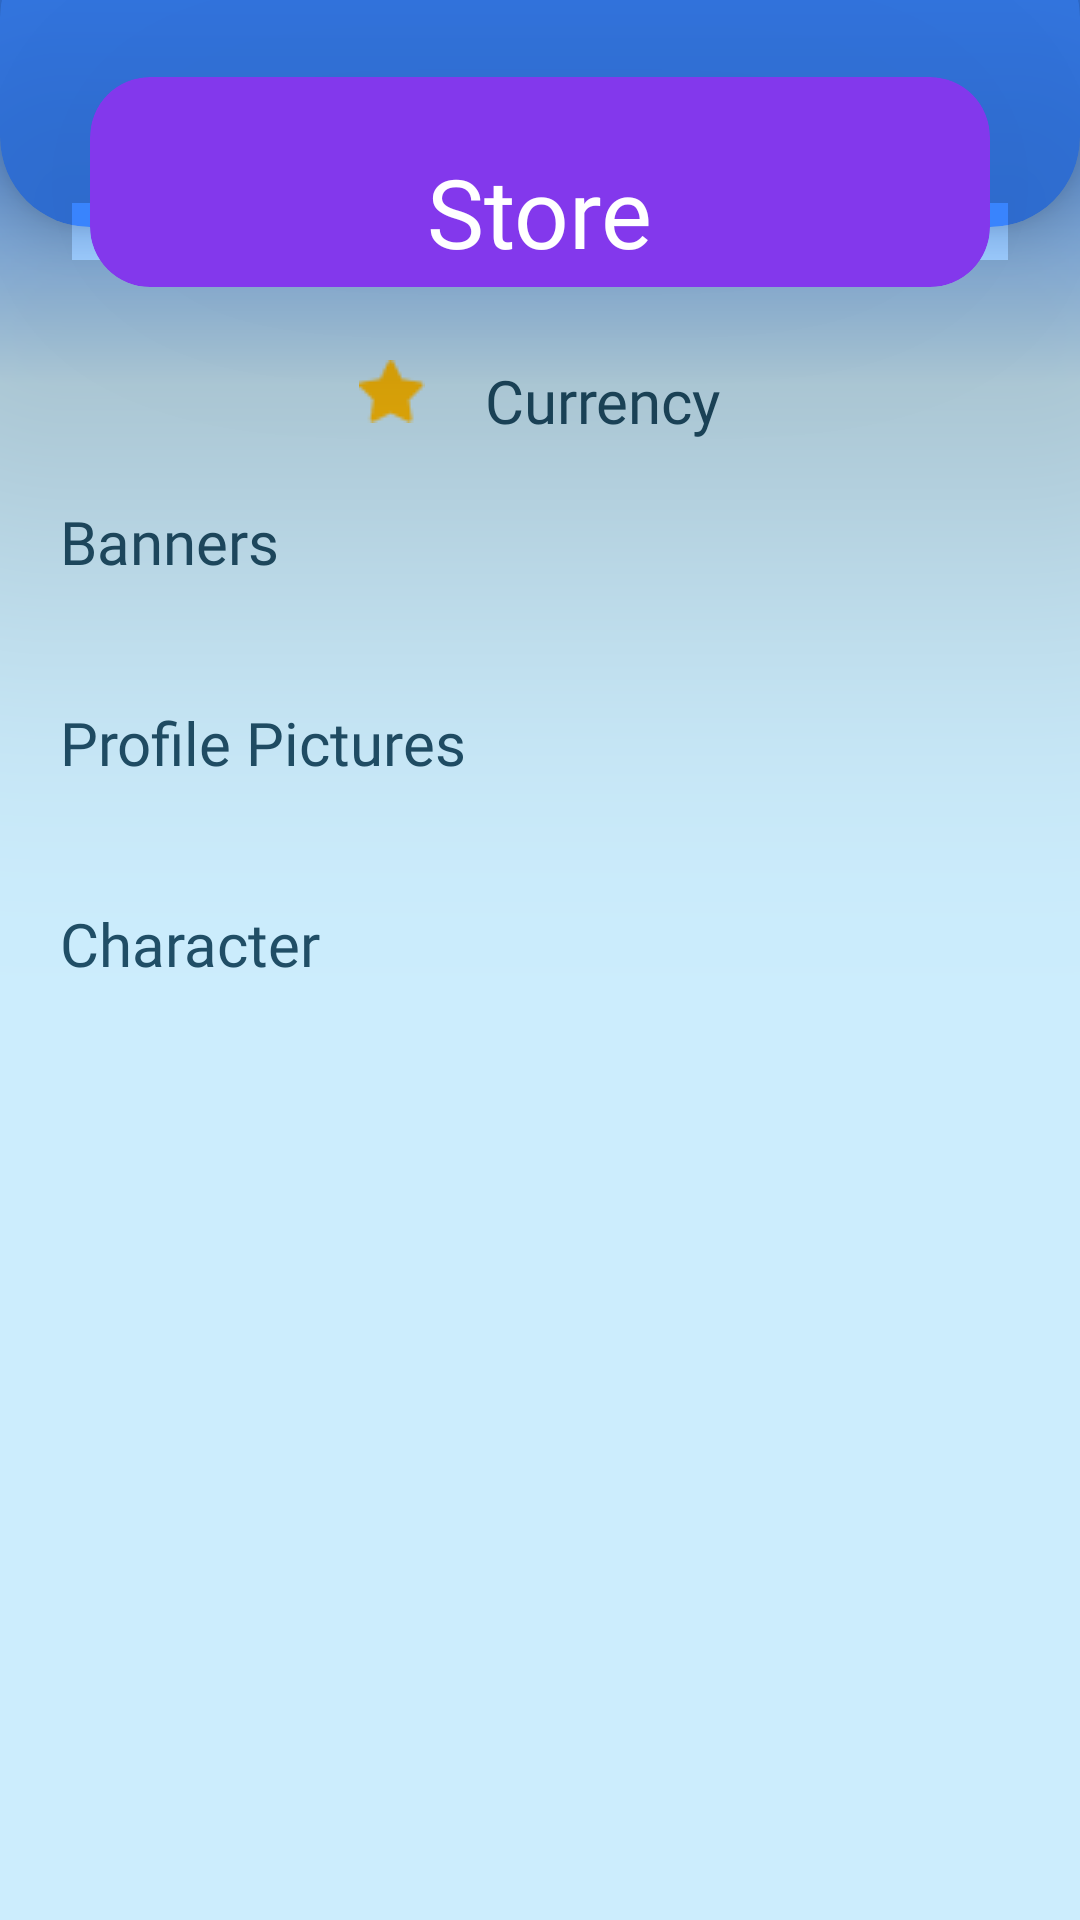

Named icons in this screenshot (1080 × 1920) and their bounding boxes, {"x1": x1, "y1": y1, "x2": x2, "y2": y2}:
star: {"x1": 359, "y1": 360, "x2": 425, "y2": 423}
